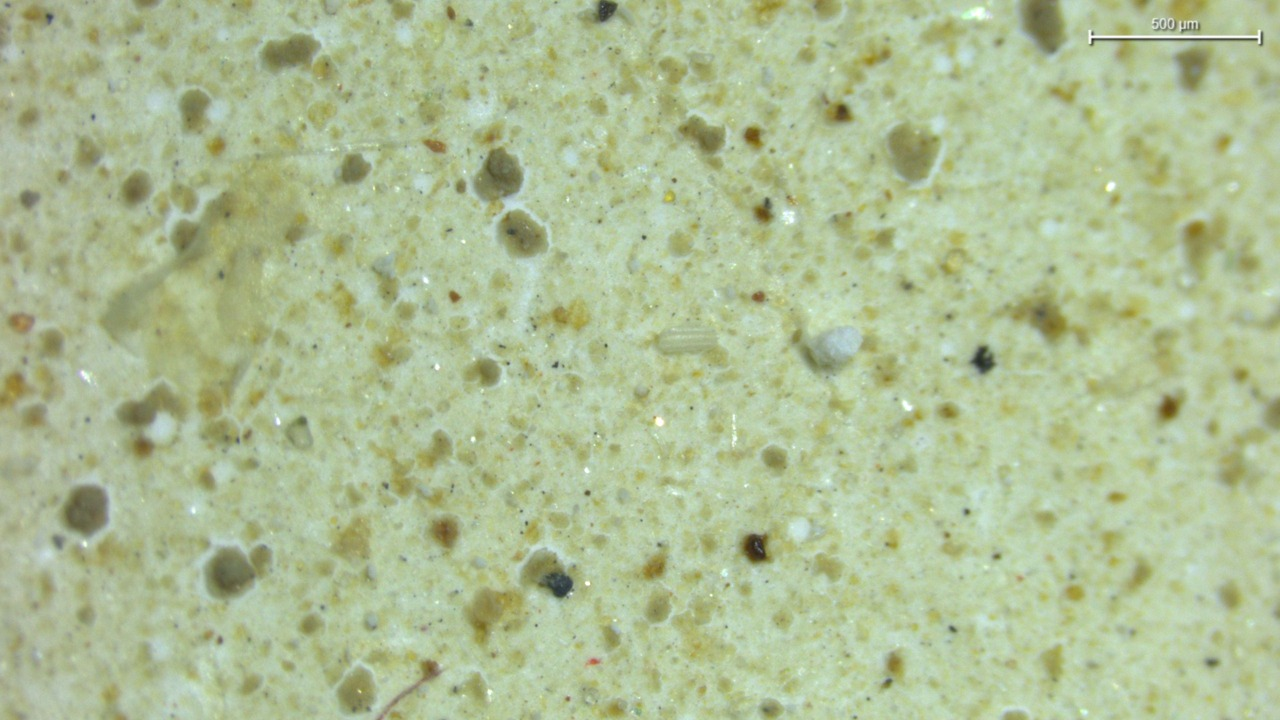microplastic_fragment: (806, 327, 863, 374), (657, 322, 718, 353)
